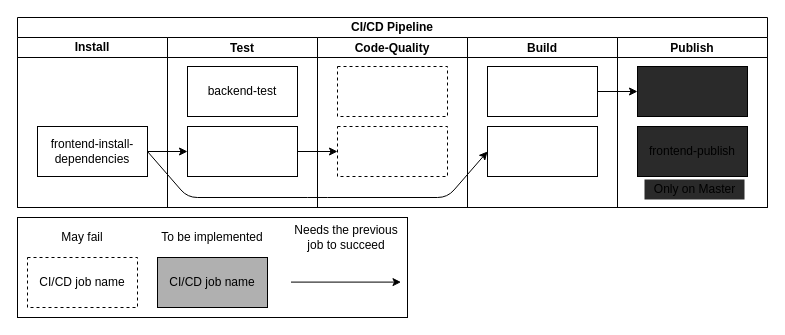
This 785x335 diagram has some shape labels left out. The shapes that lost their labels are listed below. From the top down, each one's box as (x1, y1, x2, y2) in pixels, then its label:
(336, 66, 448, 116): backend-code-quality
(486, 66, 598, 116): backend-build
(636, 66, 748, 116): backend-publish
(186, 126, 298, 176): frontend-test
(336, 126, 448, 176): frontend-code-quality
(486, 126, 598, 176): frontend-build
